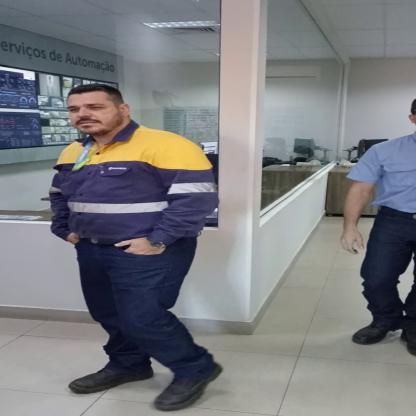Operacional: (38, 134, 218, 240)
